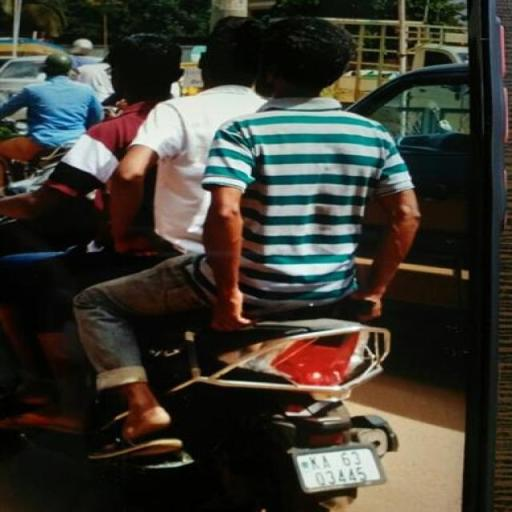tripple riding: (6, 12, 434, 322)
